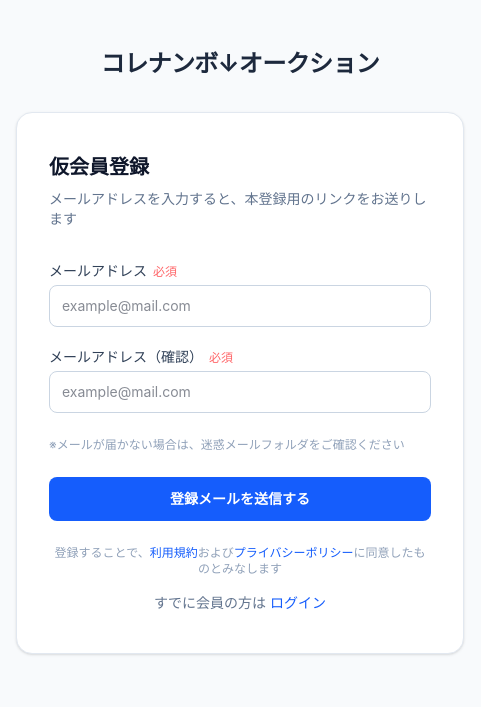
it: UserRegistrationPage › API通信 › その他のAPIエラー時にフォームエラーが表示される
Type "test@example.com" into the field with placeholder "example@mail.com" at (240, 306), box [49,285,431,327]
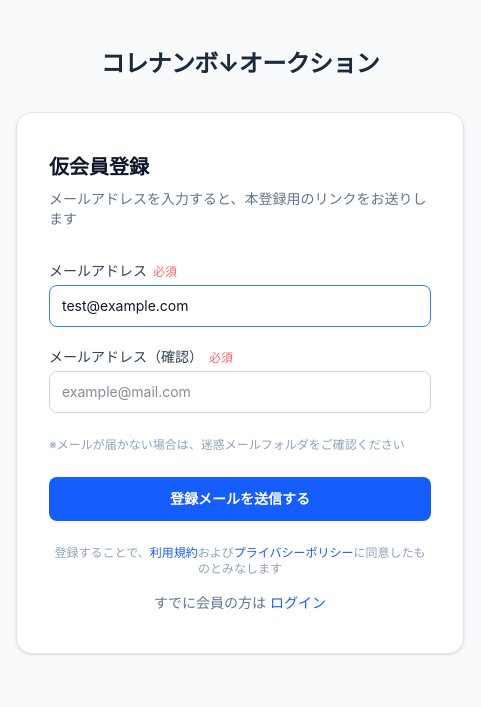
Type "test@example.com" into the field with placeholder "example@mail.com" at (240, 392), box [49,371,431,413]
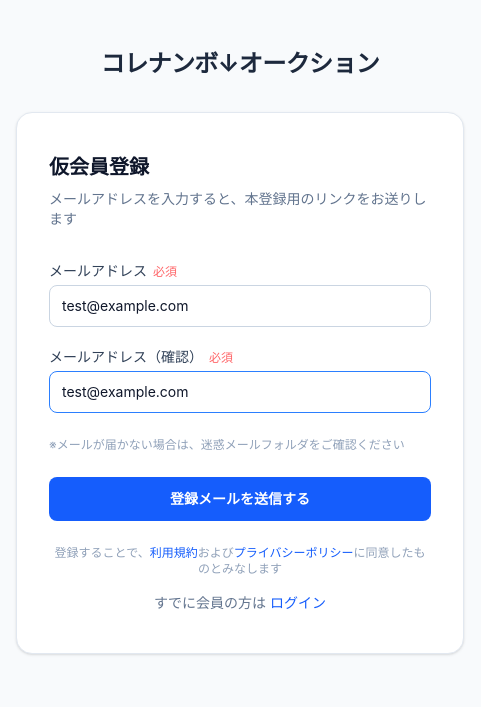
Click the button "登録メールを送信する" at (240, 499), box [49,477,431,521]
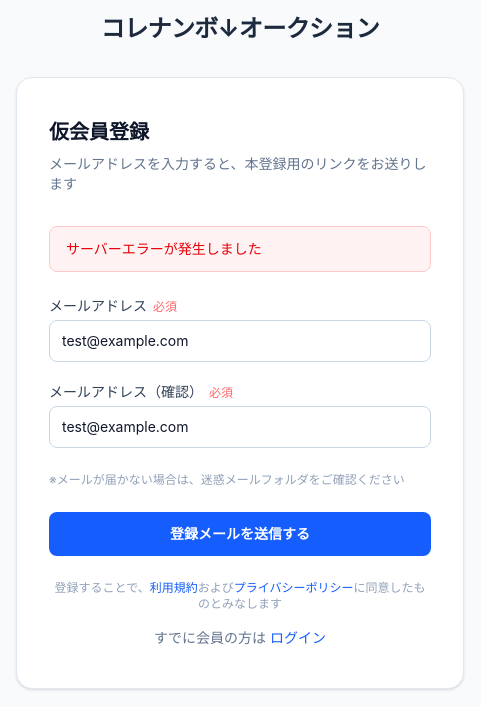
Result: the text "サーバーエラーが発生しました" is shown at [49,226,431,272]
